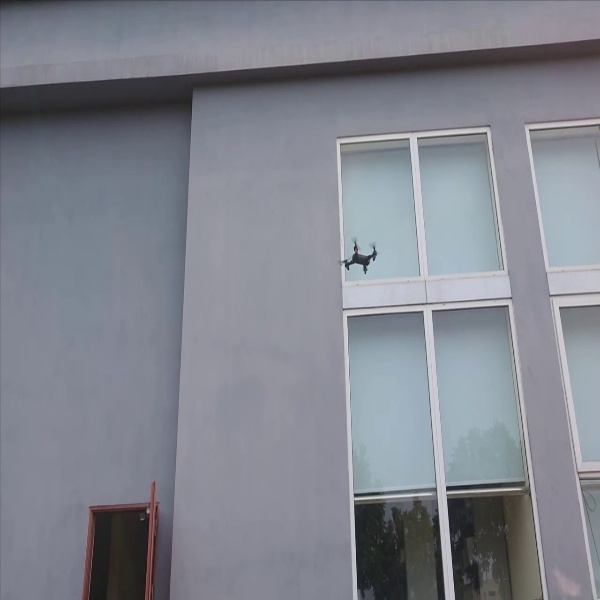drone: (339, 237, 383, 276)
